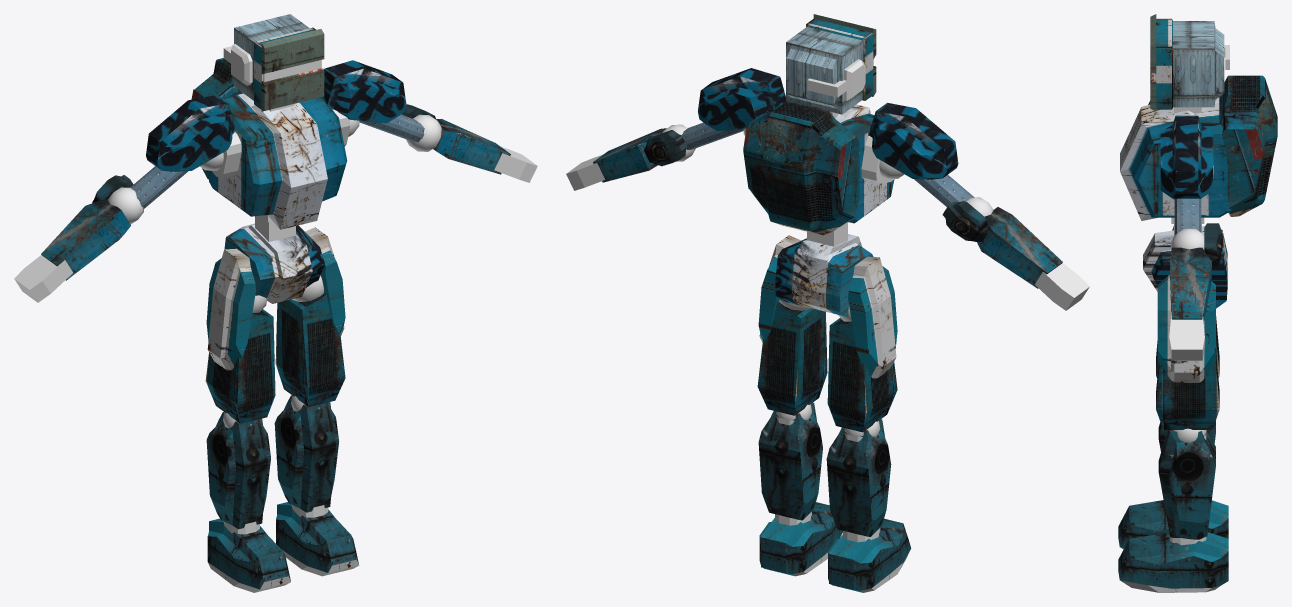
Rendered from Robot 3 piece.fbx.
The picture shows the model from 3 angles, left to right: view 1: azimuth 30°, elevation 25°; view 2: azimuth 150°, elevation 25°; view 3: azimuth 270°, elevation 25°; orthographic projection.
Visible parts, largest first — view 1: Cube.020; view 2: Cube.020; view 3: Cube.020.
Part boxes in pixels (left/top/right/bottom): Cube.020: left=14, top=14, right=537, bottom=592; Cube.020: left=566, top=14, right=1089, bottom=592; Cube.020: left=1118, top=14, right=1277, bottom=592.
Size of the model in its own units: 1301 by 1315 by 353.
